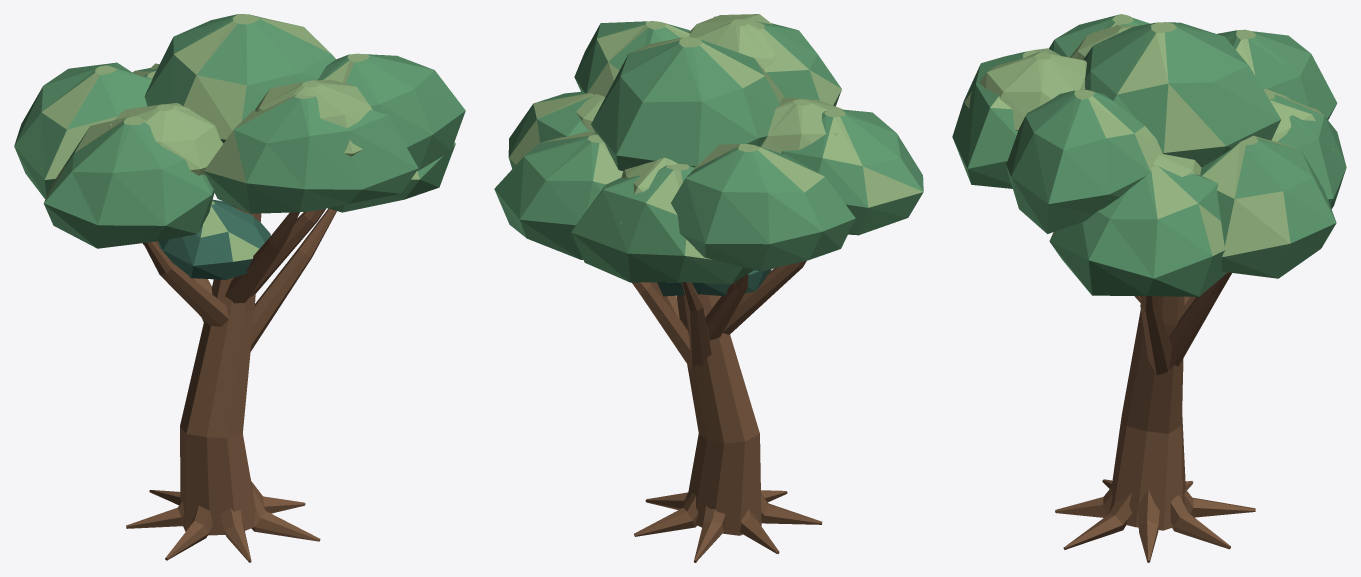
The model's file is tree_jade_canopy.glb.
3 renders of one model, left to right at view 1: azimuth 30°, elevation 25°; view 2: azimuth 150°, elevation 25°; view 3: azimuth 270°, elevation 25°, orthographic. The views are drawn at different scales.
Parts seen in each view (by area): view 1: tree_jade_canopy / mesh; view 2: tree_jade_canopy / mesh; view 3: tree_jade_canopy / mesh.
Part boxes in pixels (box(x1,y1,x2,y2)): tree_jade_canopy / mesh: box(14, 14, 465, 562); tree_jade_canopy / mesh: box(494, 14, 923, 562); tree_jade_canopy / mesh: box(952, 14, 1346, 562).
Bounding box in the file's own units: 10.13 × 11.56 × 8.11.
